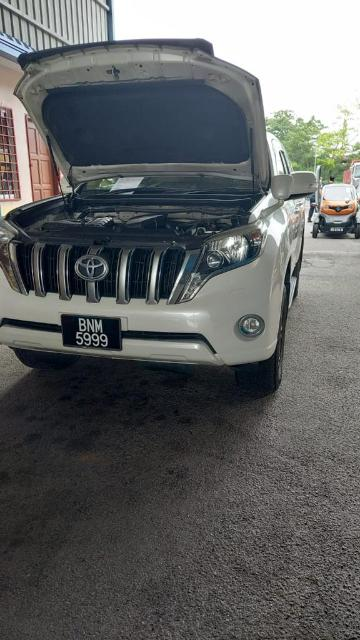License_Plate: (62, 314, 123, 350)
